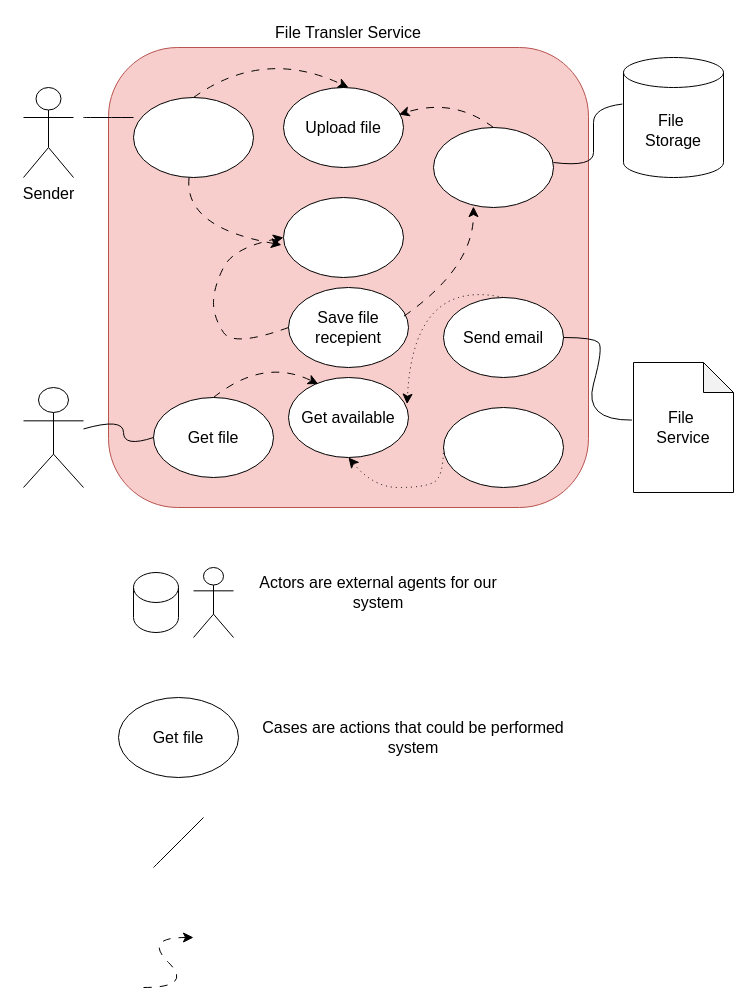
Some shapes in this 751 by 1005 pixel diagram are drawn without their labels. The shapes that lost their labels are listed below. From the top down, each one's centre as x and y in pixels, then its label:
point (193, 137): Send file
point (493, 167): Store file
point (343, 237): Specify recepient
point (53, 437): Recepient
point (503, 447): Get file left
